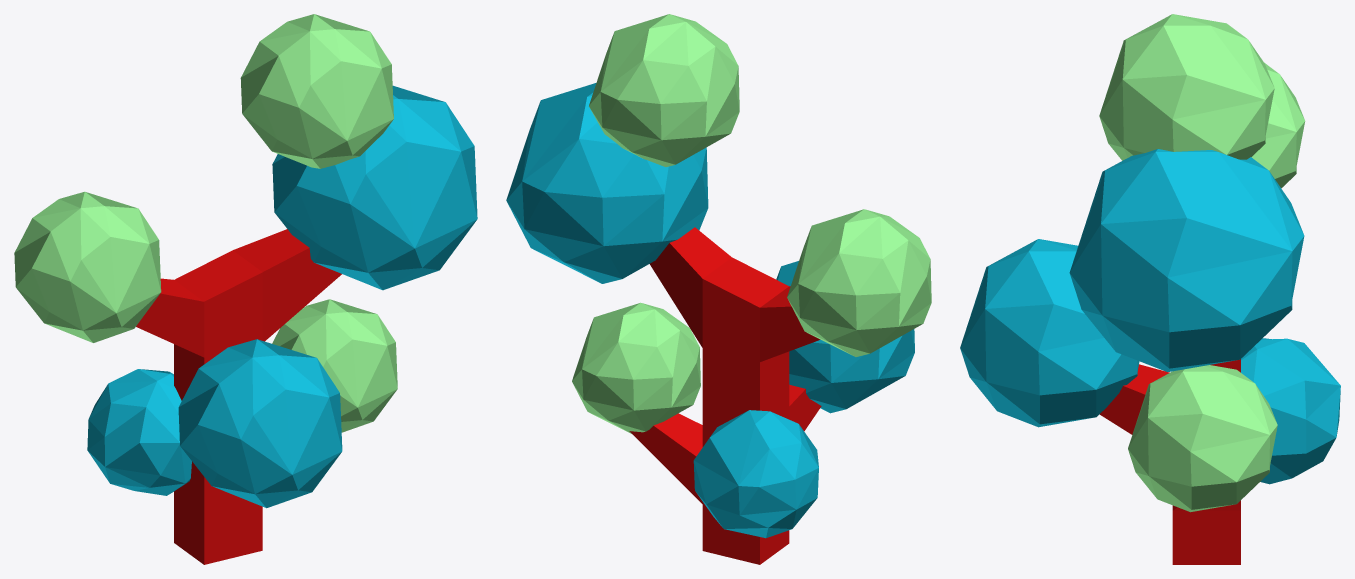
File: Arbre2.FBX
3 views of the same model, side by side, from view 1: azimuth 30°, elevation 25°; view 2: azimuth 150°, elevation 25°; view 3: azimuth 270°, elevation 25° (orthographic). The views are drawn at different scales.
Visible parts, largest first — view 1: Box006; view 2: Box006; view 3: Box006.
Part boxes in pixels (left/top/right/bottom): Box006: left=14, top=14, right=477, bottom=564; Box006: left=506, top=14, right=931, bottom=564; Box006: left=960, top=14, right=1340, bottom=564.
Size of the model in its own units: 0.1773 by 0.2025 by 0.1211.
